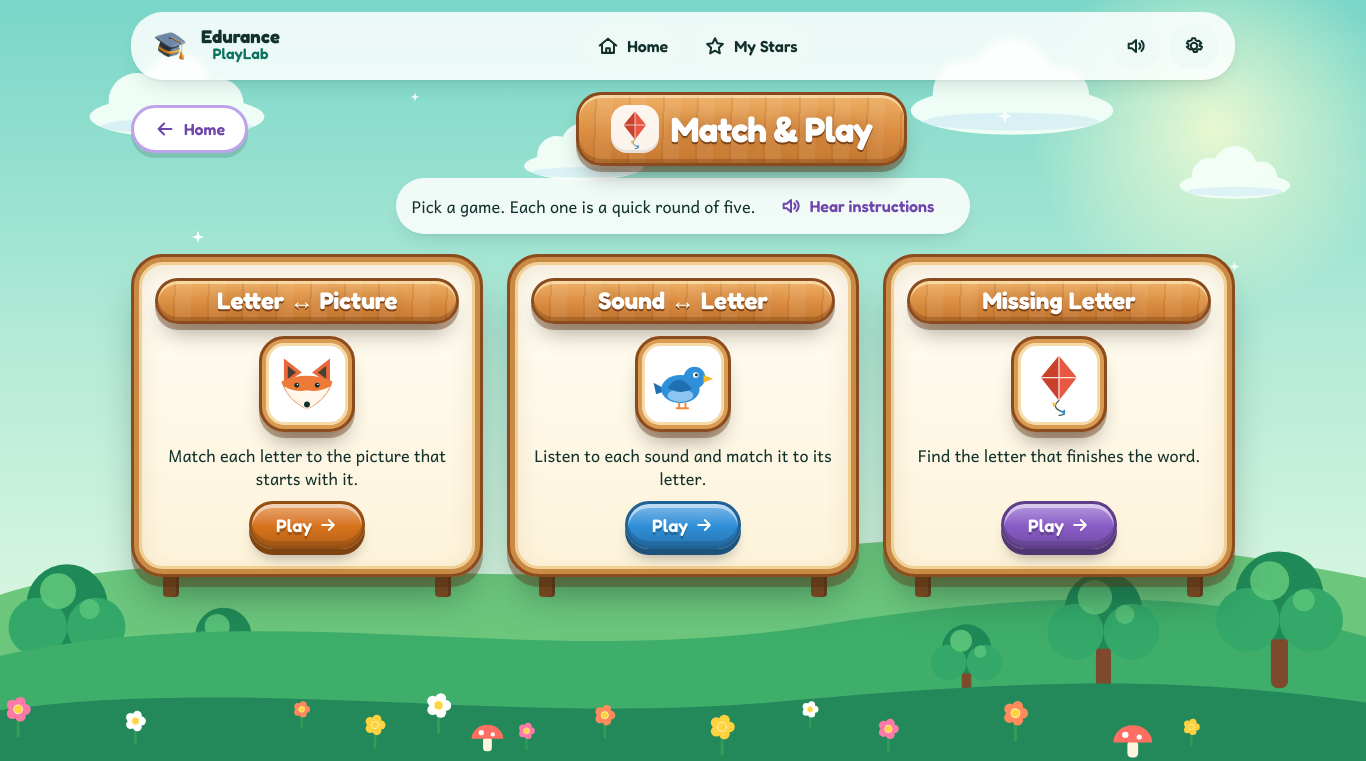
Letter to picture › works in either selection order (picture first, then letter)
Click the text "Letter ↔ Picture": {"x": 307, "y": 301} [155, 278, 459, 324]
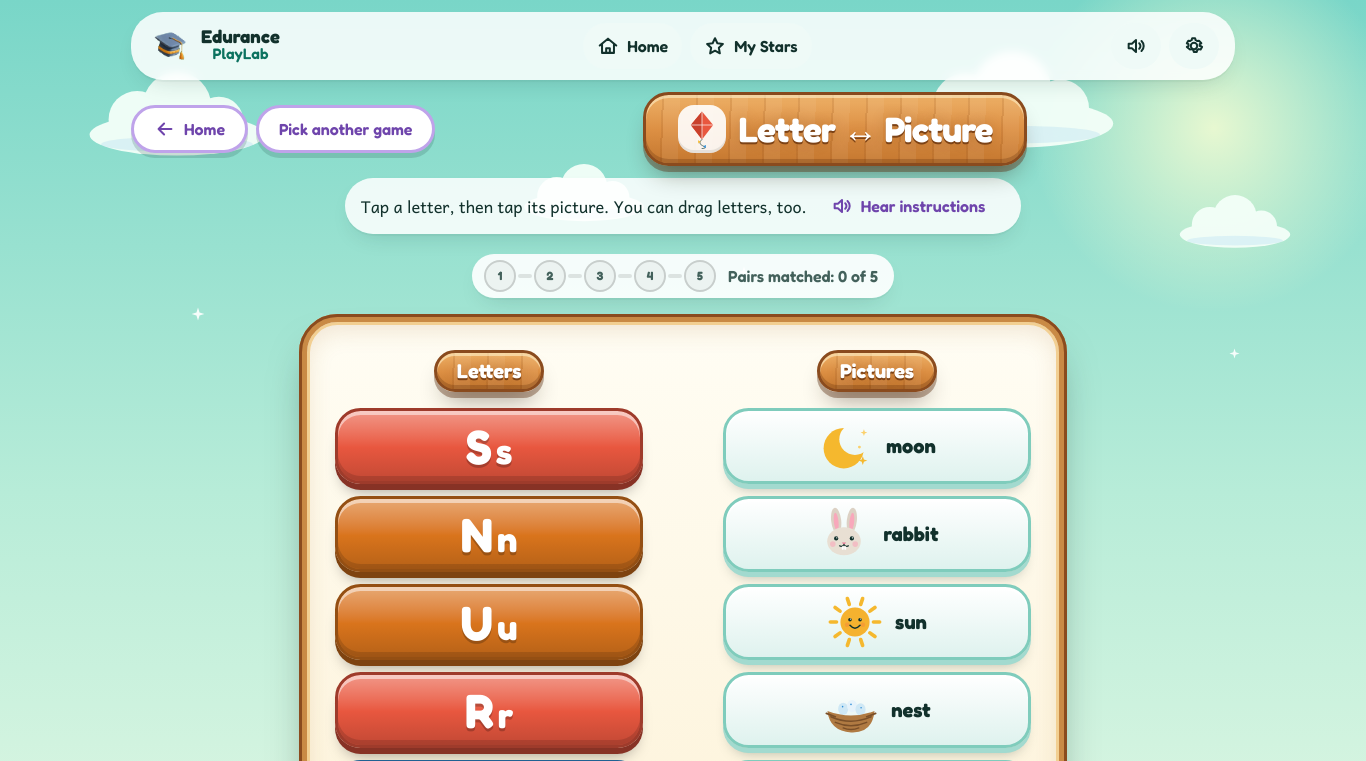
expect the text "Pairs matched: 0 of 5" is shown: met, box [728, 264, 878, 288]
Click the button "sun": {"x": 877, "y": 622} [723, 584, 1031, 660]
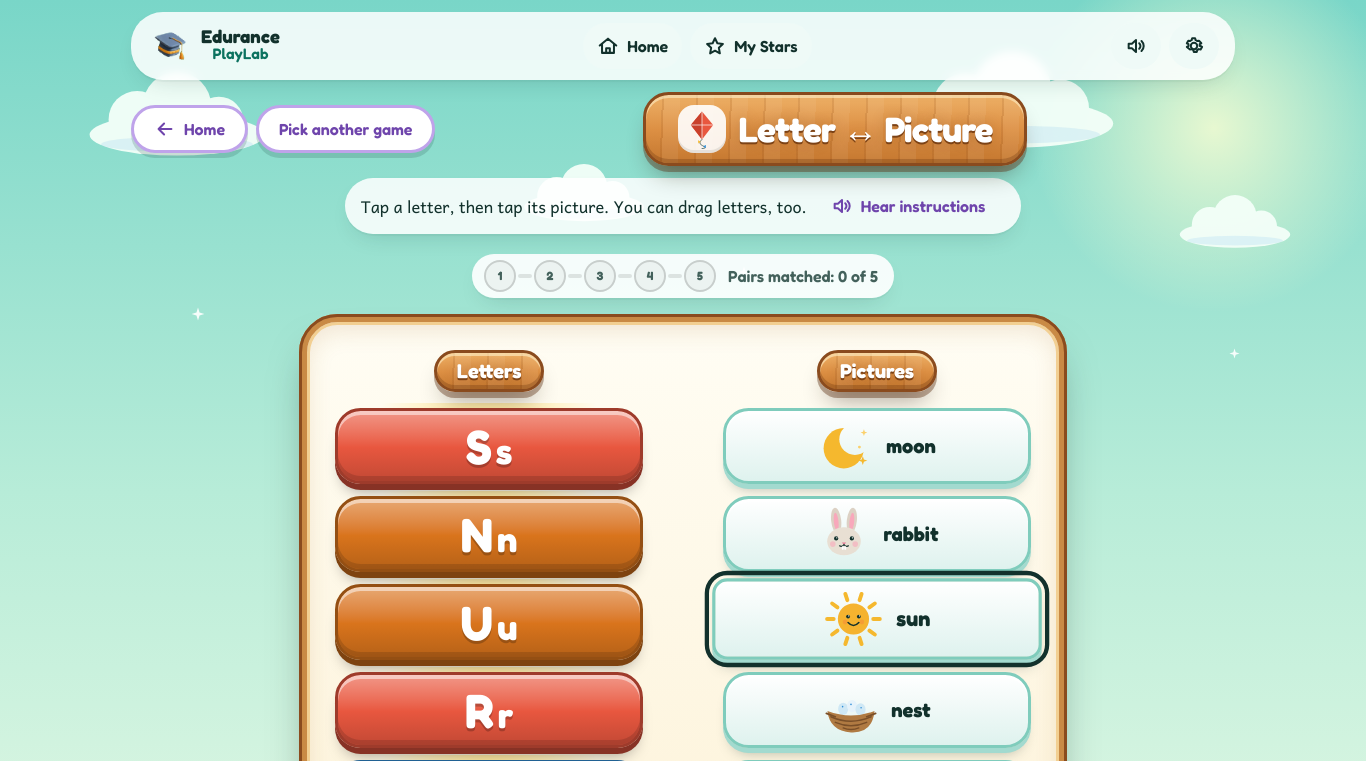
Click the button "S s": {"x": 489, "y": 446} [335, 408, 643, 484]
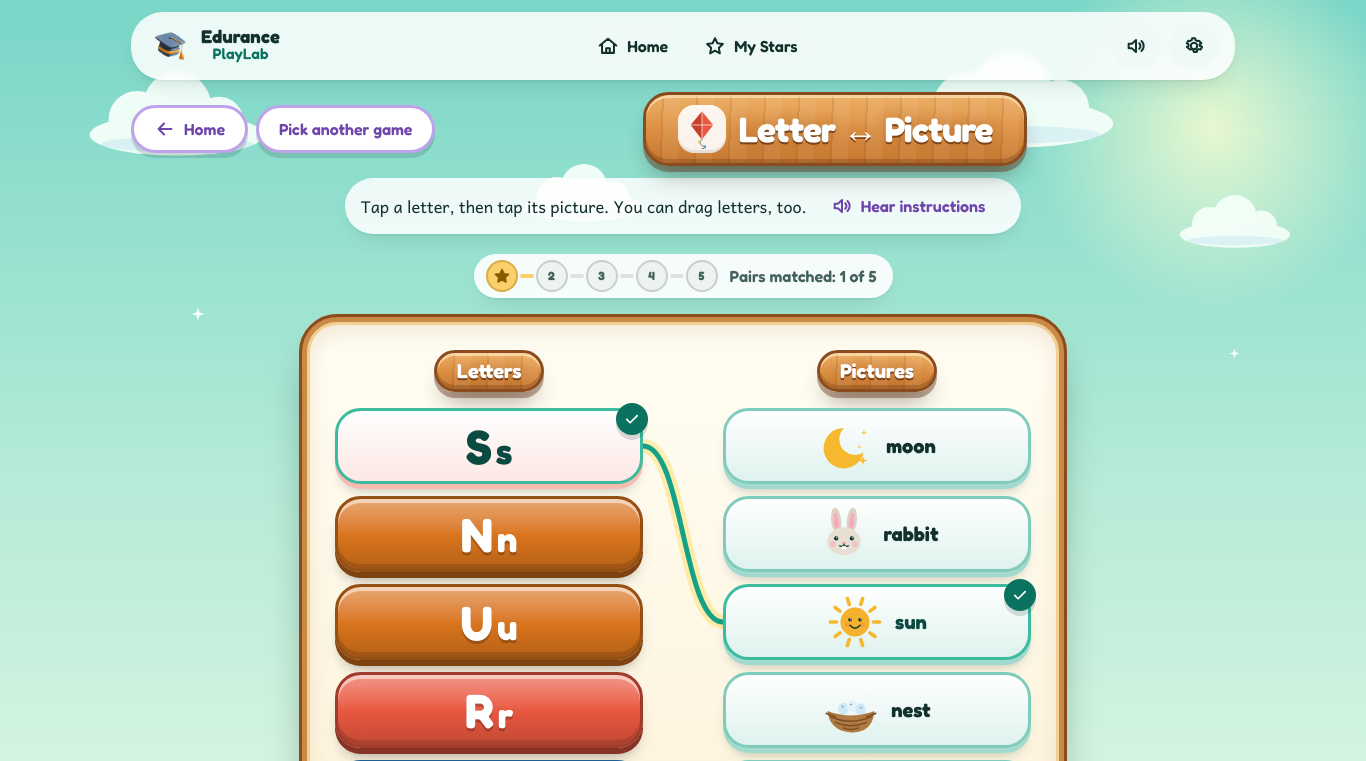
expect the text "Pairs matched: 1 of 5" is shown: met, box [730, 264, 876, 288]
